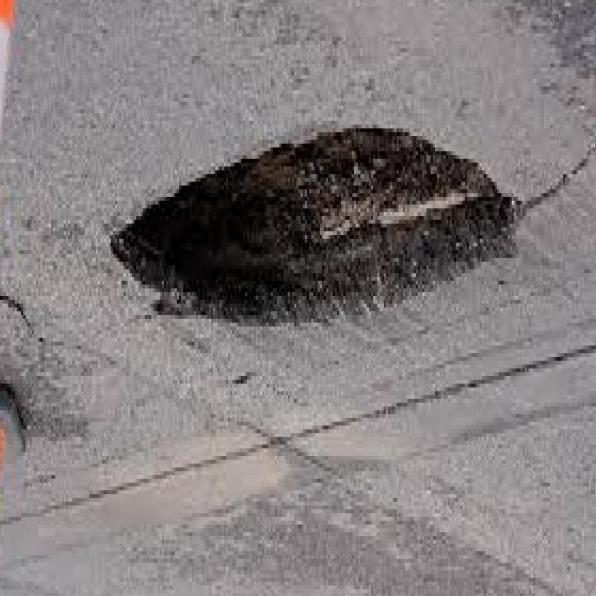pothole: (122, 112, 531, 345)
